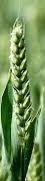Healthy Wheat: (7, 21, 35, 141)
